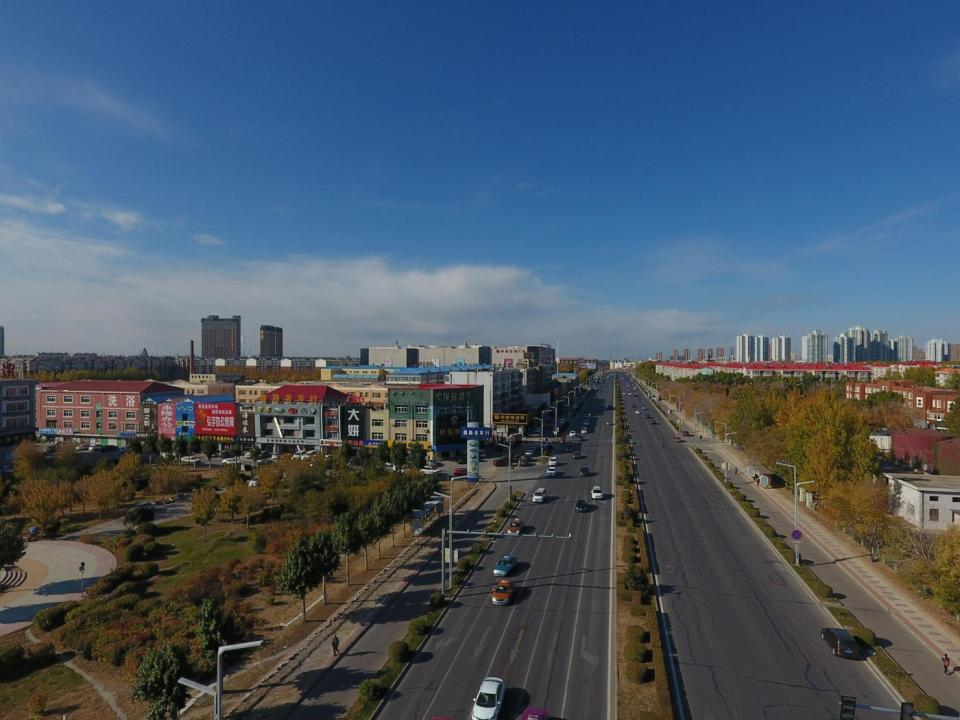car: (470, 677, 506, 720), (821, 627, 858, 660), (492, 579, 516, 605), (493, 555, 518, 577), (132, 502, 158, 514), (506, 520, 524, 535), (532, 488, 547, 503), (418, 465, 440, 475), (257, 459, 279, 469), (300, 450, 318, 461), (100, 444, 119, 454), (47, 452, 68, 461), (453, 468, 475, 476), (292, 450, 308, 461), (575, 498, 588, 511), (590, 486, 602, 500), (0, 465, 15, 476), (392, 466, 411, 474), (244, 449, 259, 459), (181, 456, 202, 463), (451, 454, 467, 463), (221, 459, 241, 466), (44, 445, 58, 455), (207, 448, 222, 457), (320, 454, 336, 462), (255, 451, 270, 459), (119, 445, 135, 452), (88, 444, 104, 451), (546, 467, 558, 476), (500, 457, 518, 463), (219, 450, 234, 457), (493, 460, 510, 466), (579, 466, 589, 476), (549, 456, 558, 466), (503, 454, 521, 459), (501, 447, 512, 455), (76, 444, 90, 450), (519, 458, 529, 466), (522, 454, 533, 461), (527, 432, 542, 437), (272, 452, 284, 458), (429, 458, 436, 467), (527, 447, 537, 453), (572, 452, 580, 459), (540, 441, 548, 448), (479, 450, 486, 458), (530, 444, 539, 450), (525, 450, 534, 456), (566, 444, 573, 451), (532, 442, 540, 448), (532, 428, 541, 433), (578, 434, 584, 441), (569, 430, 576, 436), (583, 420, 589, 426), (559, 419, 565, 424), (547, 418, 552, 423), (635, 410, 640, 414), (645, 414, 650, 418), (650, 420, 655, 424), (607, 420, 611, 425), (632, 404, 636, 408), (642, 406, 646, 409), (608, 405, 612, 408), (571, 398, 577, 400), (583, 408, 587, 411), (588, 412, 592, 415), (629, 392, 632, 395), (636, 396, 639, 399), (629, 384, 632, 386), (632, 384, 635, 386), (634, 386, 637, 388), (633, 388, 636, 390), (623, 392, 625, 395), (635, 393, 638, 395), (634, 394, 636, 397), (582, 395, 584, 398), (584, 393, 587, 395), (627, 378, 629, 380), (630, 378, 632, 380), (626, 383, 628, 385), (628, 389, 630, 391), (599, 390, 602, 391), (622, 378, 623, 380), (625, 378, 626, 380), (633, 381, 635, 382)
truck: (626, 384, 629, 390), (599, 380, 602, 384)
van: (250, 475, 268, 487), (581, 426, 586, 434), (573, 396, 578, 399)
